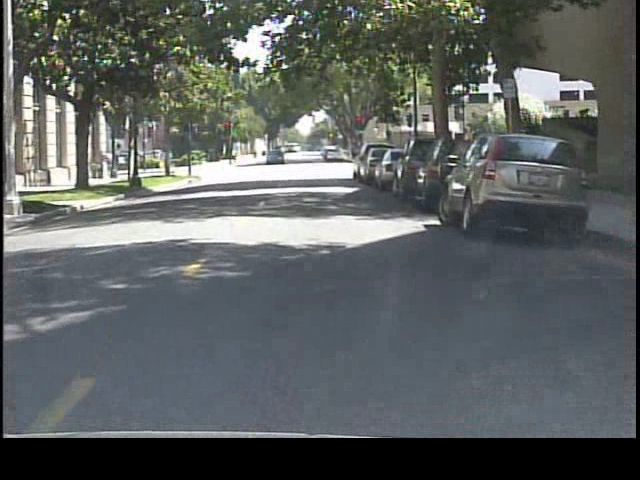person: (230, 141, 243, 168)
